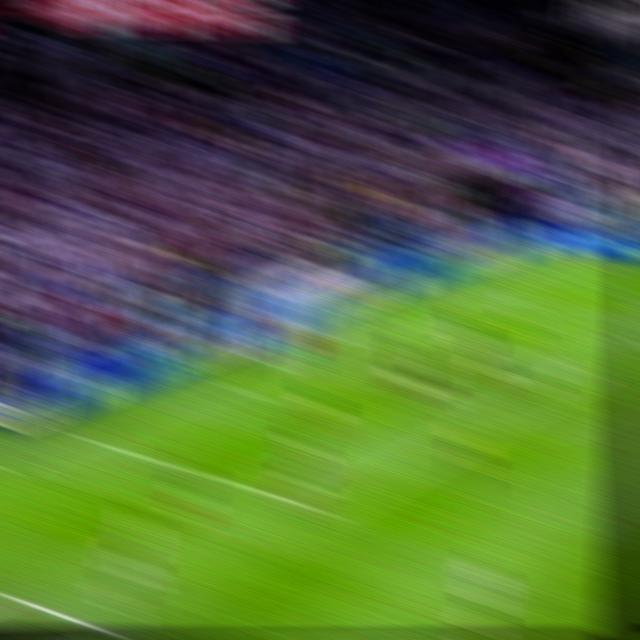bigarea_bottom_inner: (311, 499, 344, 527)
bigarea_bottom_outter: (63, 426, 98, 449)
bigarea_top_outter: (449, 279, 477, 299)
corner: (533, 250, 564, 262)
smallarea_bottom_inner: (267, 388, 302, 417)
smallarea_bottom_outter: (199, 373, 233, 394)
smallarea_top_inner: (428, 321, 464, 346)
smallarea_top_outter: (369, 309, 401, 329)
top_arc_area_intersection: (572, 356, 604, 383)
